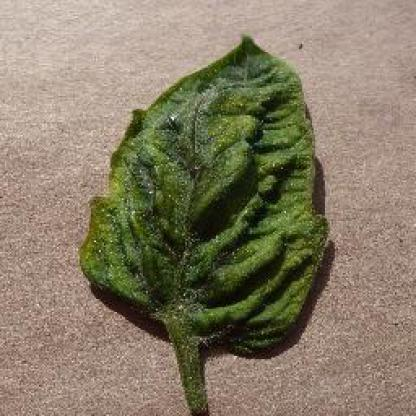bad leaf: (107, 29, 333, 414)
